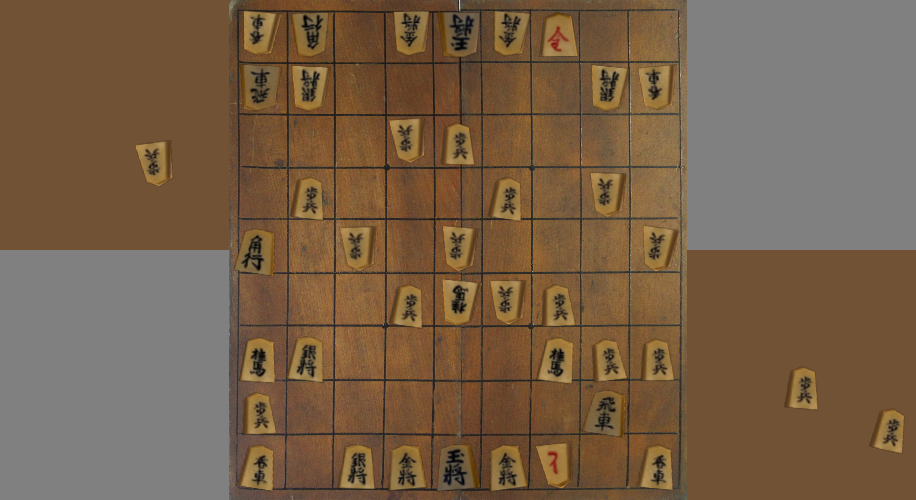A: (581, 380, 629, 439), (237, 219, 288, 274), (627, 434, 679, 487), (629, 326, 680, 380), (382, 435, 432, 490), (237, 325, 286, 381), (384, 273, 435, 326), (532, 326, 580, 382), (433, 435, 481, 491), (238, 381, 288, 434), (238, 433, 286, 488), (334, 434, 382, 489), (480, 434, 528, 489), (533, 273, 582, 326), (287, 324, 334, 379), (286, 167, 336, 218), (483, 167, 531, 220), (581, 326, 629, 379), (531, 10, 580, 61), (435, 114, 483, 166)
B: (235, 62, 289, 115), (335, 217, 385, 274), (629, 218, 680, 273), (235, 10, 287, 62), (385, 114, 435, 167), (435, 219, 484, 273), (481, 10, 531, 62), (629, 62, 679, 114), (483, 273, 532, 326), (529, 434, 577, 488), (580, 167, 630, 218), (579, 62, 628, 114), (287, 62, 335, 115), (384, 12, 433, 63), (435, 273, 483, 325), (433, 11, 481, 62), (287, 10, 333, 62)
C: (783, 365, 824, 412), (869, 408, 906, 456)
D: (131, 139, 174, 188)
